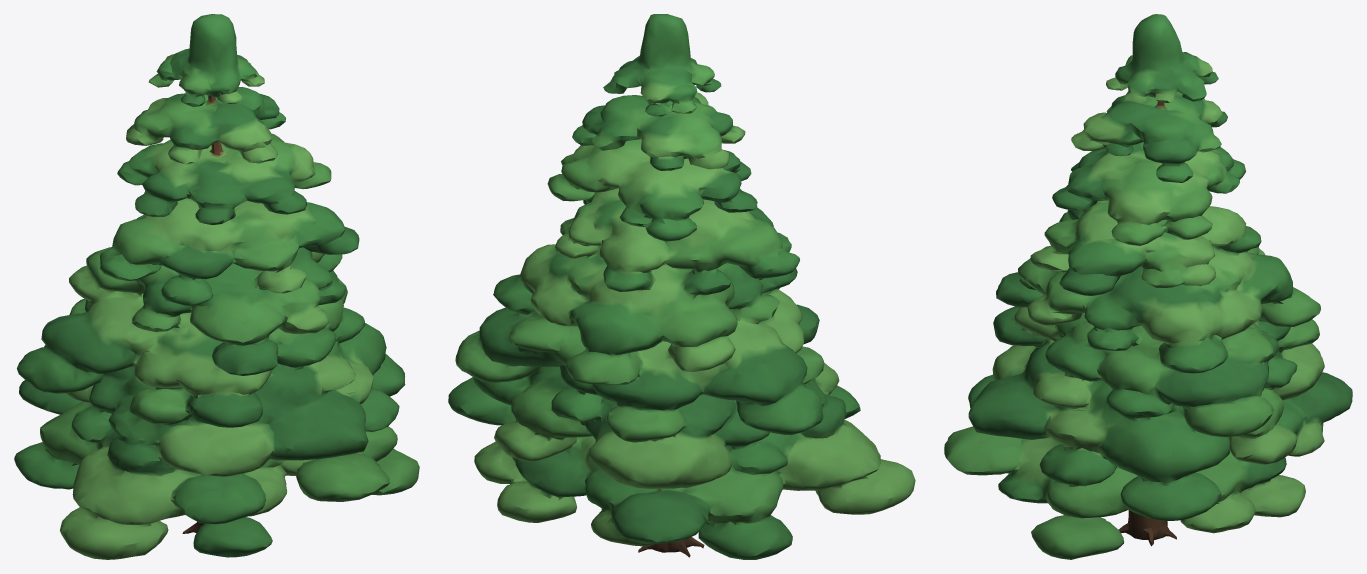
The model's file is pine_mature.glb.
3 views of the same model, side by side, from view 1: azimuth 30°, elevation 25°; view 2: azimuth 150°, elevation 25°; view 3: azimuth 270°, elevation 25° (orthographic). The views are drawn at different scales.
Visible parts, largest first — view 1: pine_mature_LOD0; view 2: pine_mature_LOD0; view 3: pine_mature_LOD0.
Part boxes in pixels (bbox=[...]): pine_mature_LOD0: bbox=[14, 14, 419, 559]; pine_mature_LOD0: bbox=[448, 14, 915, 559]; pine_mature_LOD0: bbox=[944, 14, 1352, 559].
Size of what is drawn, in the model's own units: 4.65 by 5.98 by 4.29.
